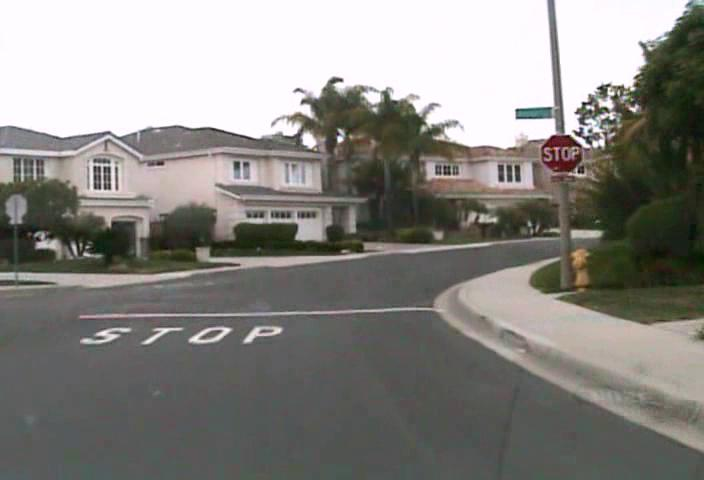stop: (540, 133, 583, 174)
